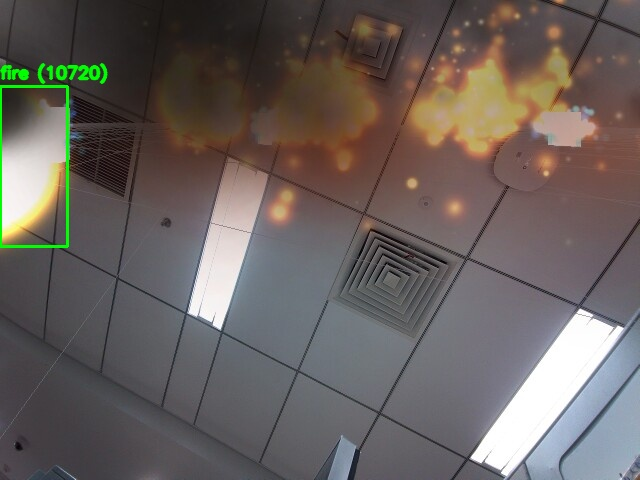fire: (0, 86, 67, 246)
